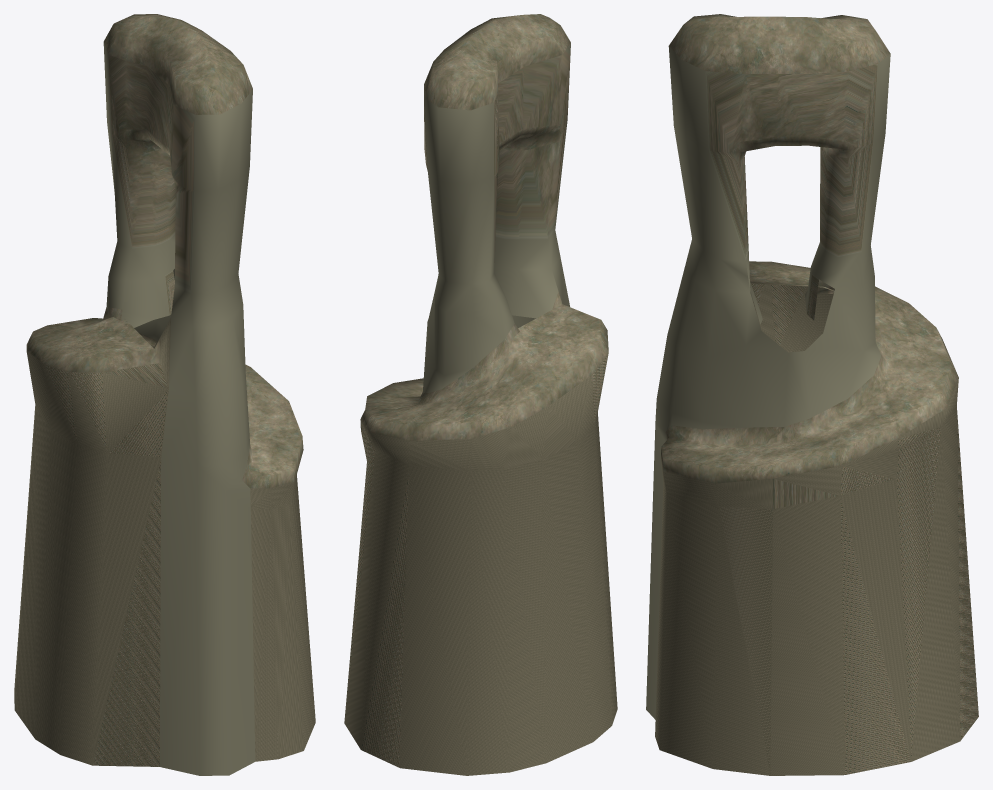
File: OVERHILL_A_01_LINE134.fbx
The picture shows the model from 3 angles, left to right: view 1: azimuth 30°, elevation 25°; view 2: azimuth 150°, elevation 25°; view 3: azimuth 270°, elevation 25°; orthographic projection. The views are drawn at different scales.
Visible parts, largest first — view 1: OVERHILL_A_01_LINE134; view 2: OVERHILL_A_01_LINE134; view 3: OVERHILL_A_01_LINE134.
Part boxes in pixels (box(x1,y1,x2,y2)): OVERHILL_A_01_LINE134: box(14, 14, 315, 775); OVERHILL_A_01_LINE134: box(344, 14, 617, 775); OVERHILL_A_01_LINE134: box(646, 14, 978, 775).
Bounding box in the file's own units: 74368 × 203543 × 87026.
Materials: 1 (1 with a texture image).
